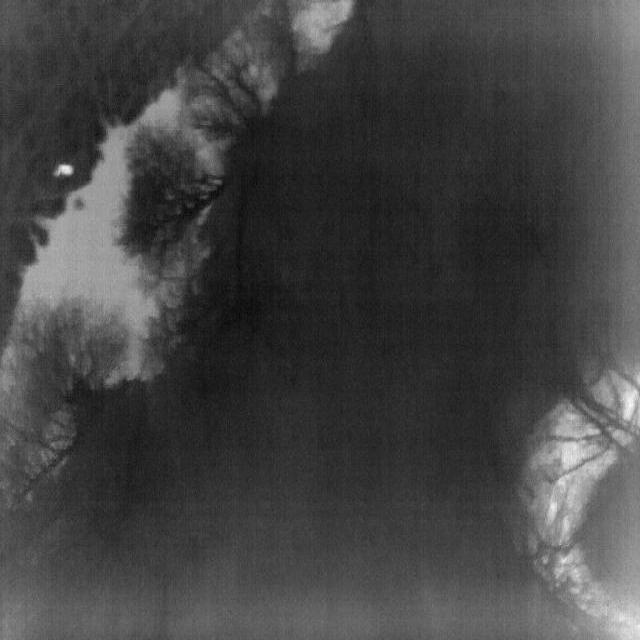deer: (52, 162, 74, 178)
